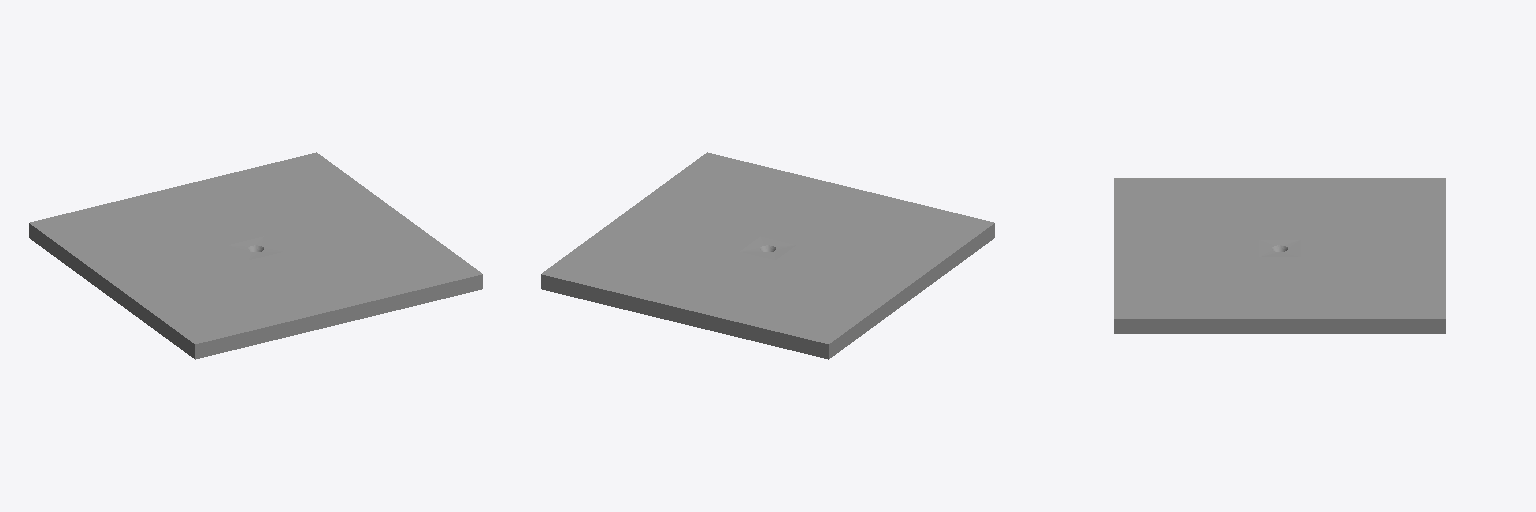
File: platforms_goal.obj
3 renders of one model, left to right at view 1: azimuth 30°, elevation 25°; view 2: azimuth 150°, elevation 25°; view 3: azimuth 270°, elevation 25°, orthographic.
Parts seen in each view (by area): view 1: Goal_Cube.005; view 2: Goal_Cube.005; view 3: Goal_Cube.005.
Boxes of the visible parts, <box> form: Goal_Cube.005: <box>29,152,482,359</box>; Goal_Cube.005: <box>541,152,994,359</box>; Goal_Cube.005: <box>1114,178,1445,333</box>.
Size of the model in its own units: 40 by 2 by 40.